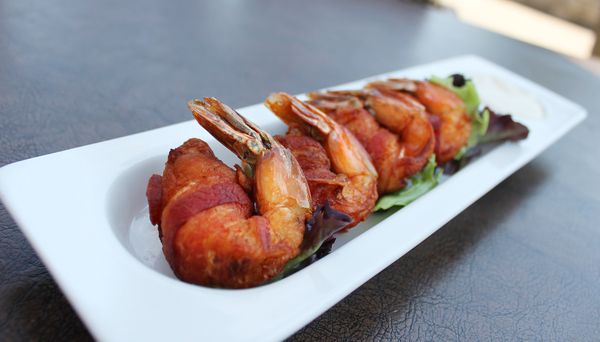sushi: (1, 18, 576, 335)
